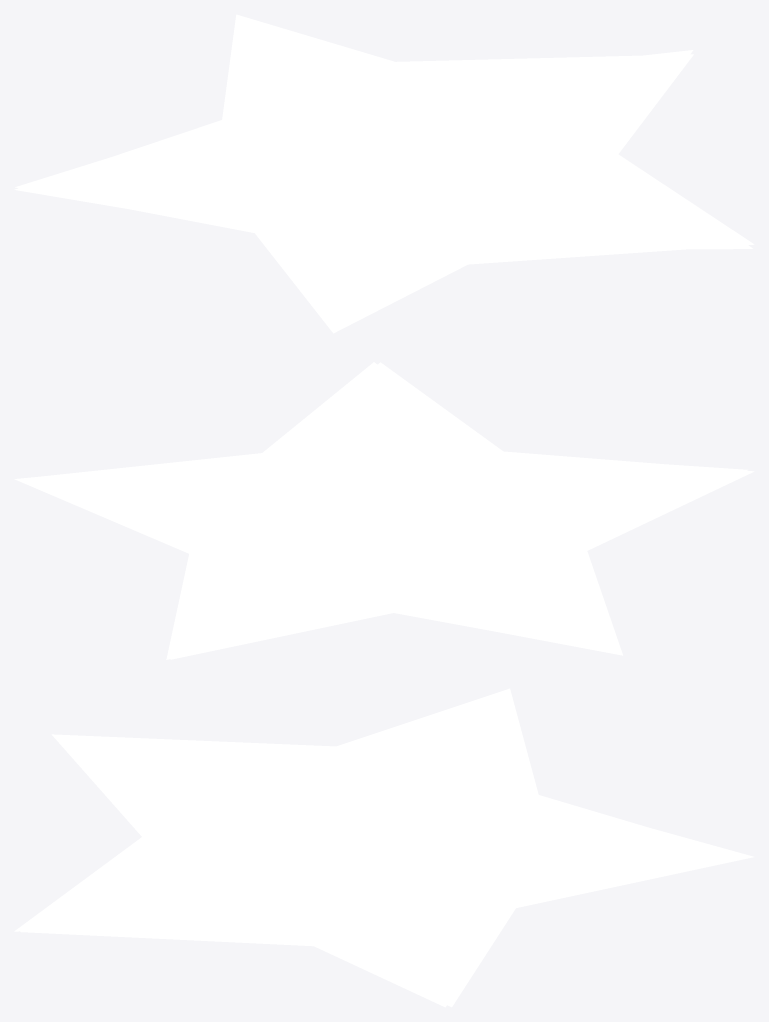
File: hoshi.fbx
3 renders of one model, top to bottom at view 1: azimuth 30°, elevation 25°; view 2: azimuth 150°, elevation 25°; view 3: azimuth 270°, elevation 25°, orthographic. The views are drawn at different scales.
Parts seen in each view (by area): view 1: obj2, obj1; view 2: obj2, obj1; view 3: obj2, obj1.
Part boxes in pixels (x1,y1,x2,y2): obj2: [14, 18, 752, 333]; obj1: [15, 14, 754, 329]; obj2: [23, 362, 754, 659]; obj1: [14, 362, 747, 659]; obj2: [14, 690, 747, 1007]; obj1: [20, 688, 753, 1007].
Size of the model in its own units: 4.96 by 1.39 by 4.86.
